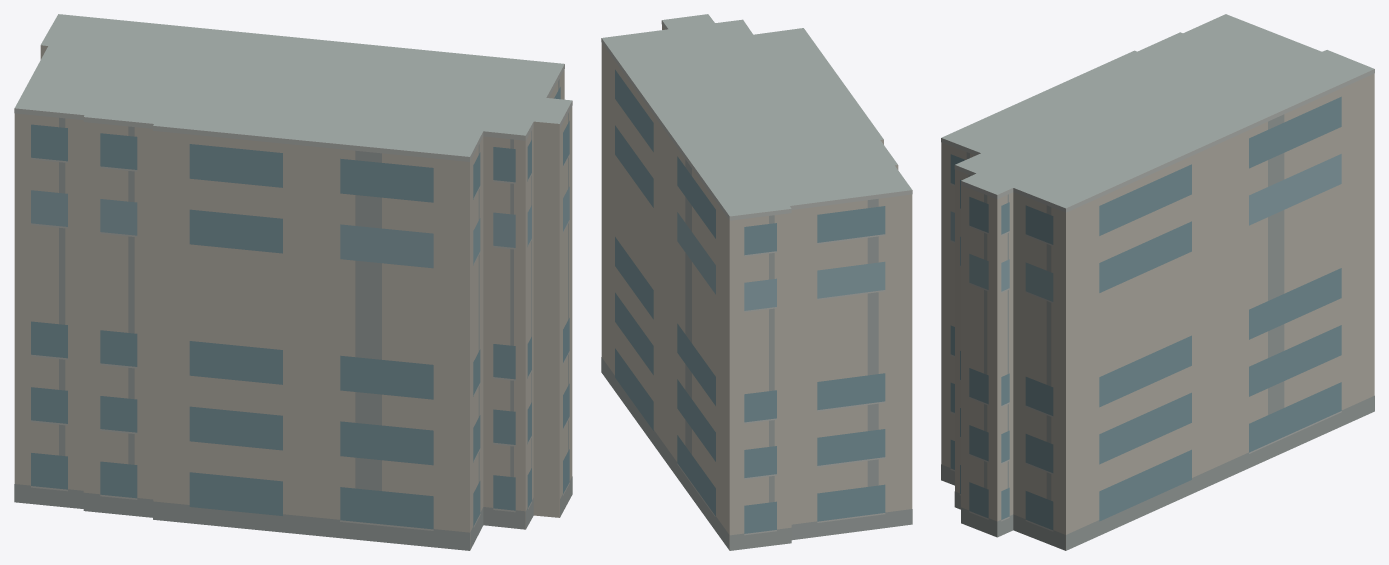
File: survey-upis-32786945.glb
3 renders of one model, left to right at view 1: azimuth 30°, elevation 25°; view 2: azimuth 150°, elevation 25°; view 3: azimuth 270°, elevation 25°, orthographic. The views are drawn at different scales.
Visible parts, largest first — view 1: survey-upis-32786945.tmp; view 2: survey-upis-32786945.tmp; view 3: survey-upis-32786945.tmp.
Boxes of the visible parts, box(x1,y1,x2,y2) form: survey-upis-32786945.tmp: box(14, 14, 572, 550); survey-upis-32786945.tmp: box(601, 14, 912, 550); survey-upis-32786945.tmp: box(941, 14, 1374, 550).
Size of the model in its own units: 23.14 by 19 by 21.81.
